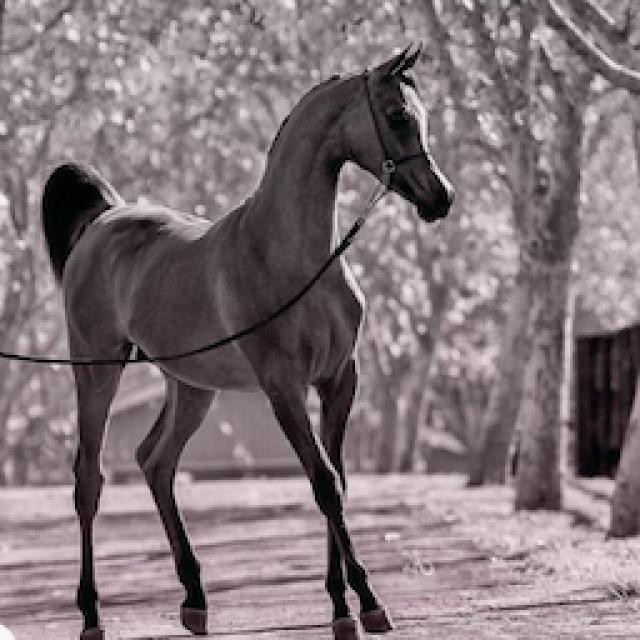Horse: (35, 38, 463, 638)
